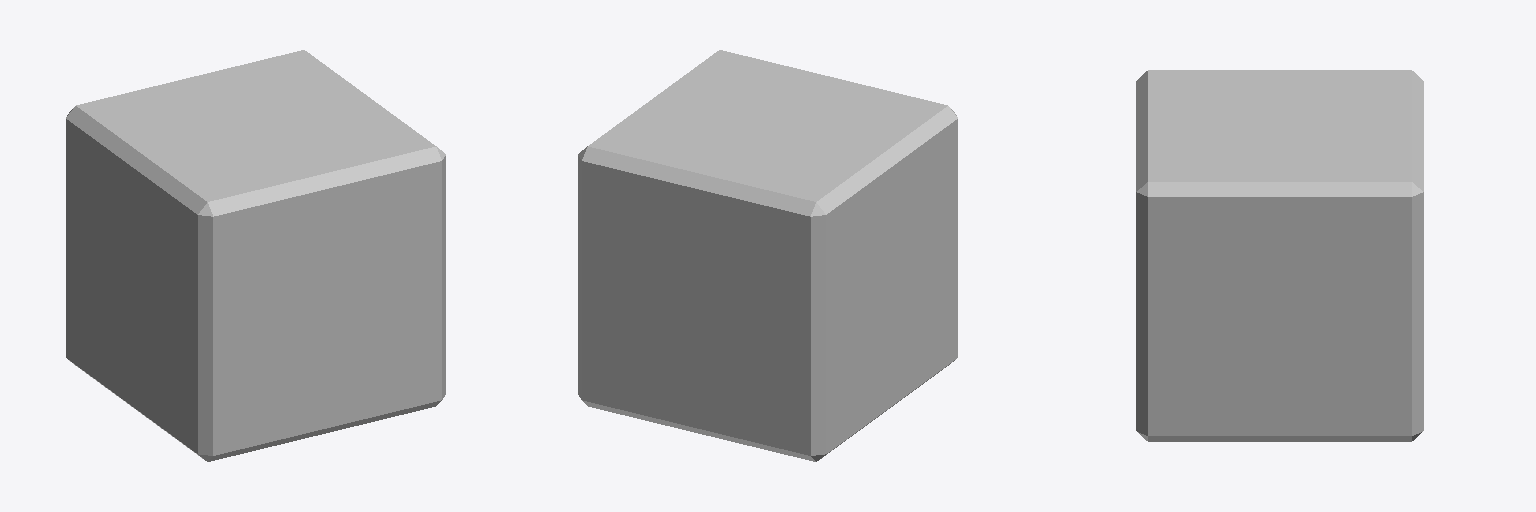
The model's file is Stone_Block_1.obj.
The picture shows the model from 3 angles: view 1: azimuth 30°, elevation 25°; view 2: azimuth 150°, elevation 25°; view 3: azimuth 270°, elevation 25°; orthographic projection.
Visible parts, largest first — view 1: Cube_Cube.001; view 2: Cube_Cube.001; view 3: Cube_Cube.001.
Boxes of the visible parts, x1=… form: Cube_Cube.001: x1=66, y1=50, x2=445, y2=461; Cube_Cube.001: x1=578, y1=50, x2=957, y2=461; Cube_Cube.001: x1=1136, y1=70, x2=1423, y2=441.
Size of the model in its own units: 2 by 2 by 2.